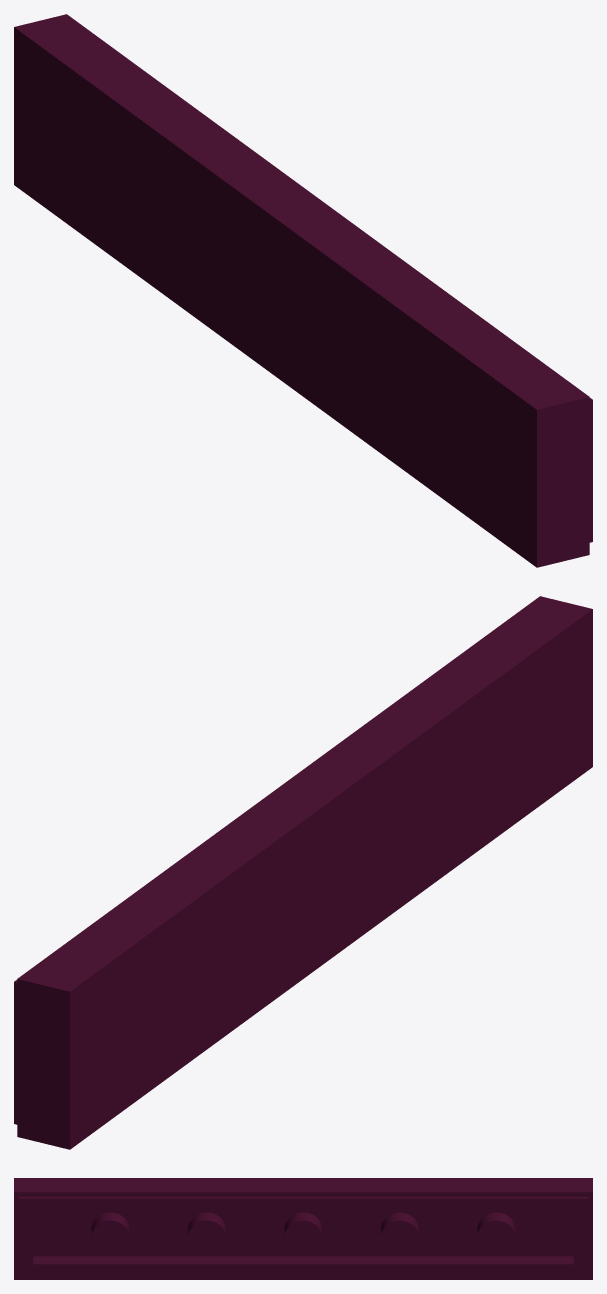
Rendered from tile1*6_magenta.obj.
3 views of the same model, one above another, from view 1: azimuth 30°, elevation 25°; view 2: azimuth 150°, elevation 25°; view 3: azimuth 270°, elevation 25° (orthographic). The views are drawn at different scales.
Size of the model in its own units: 8 by 20 by 120.
